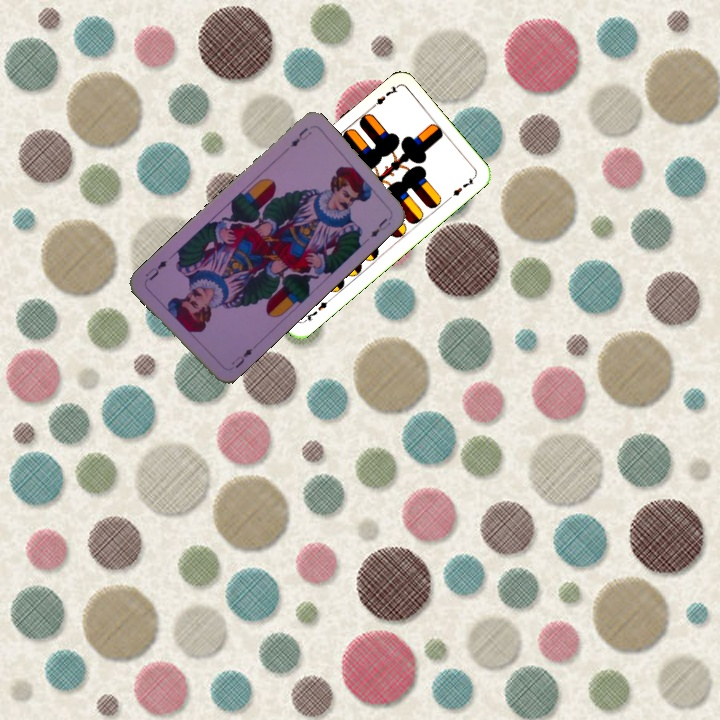E7: (299, 295, 333, 325), (366, 82, 400, 112)
EU: (286, 123, 315, 150), (227, 344, 255, 371)
